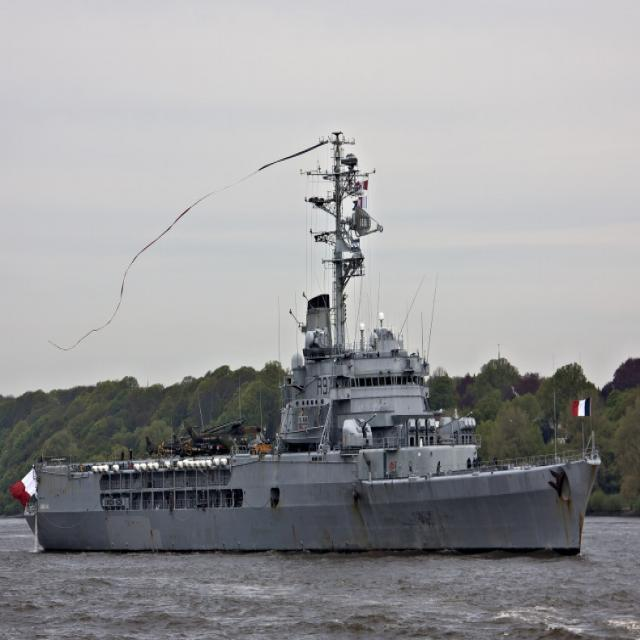Portanaves: (17, 120, 606, 561)
